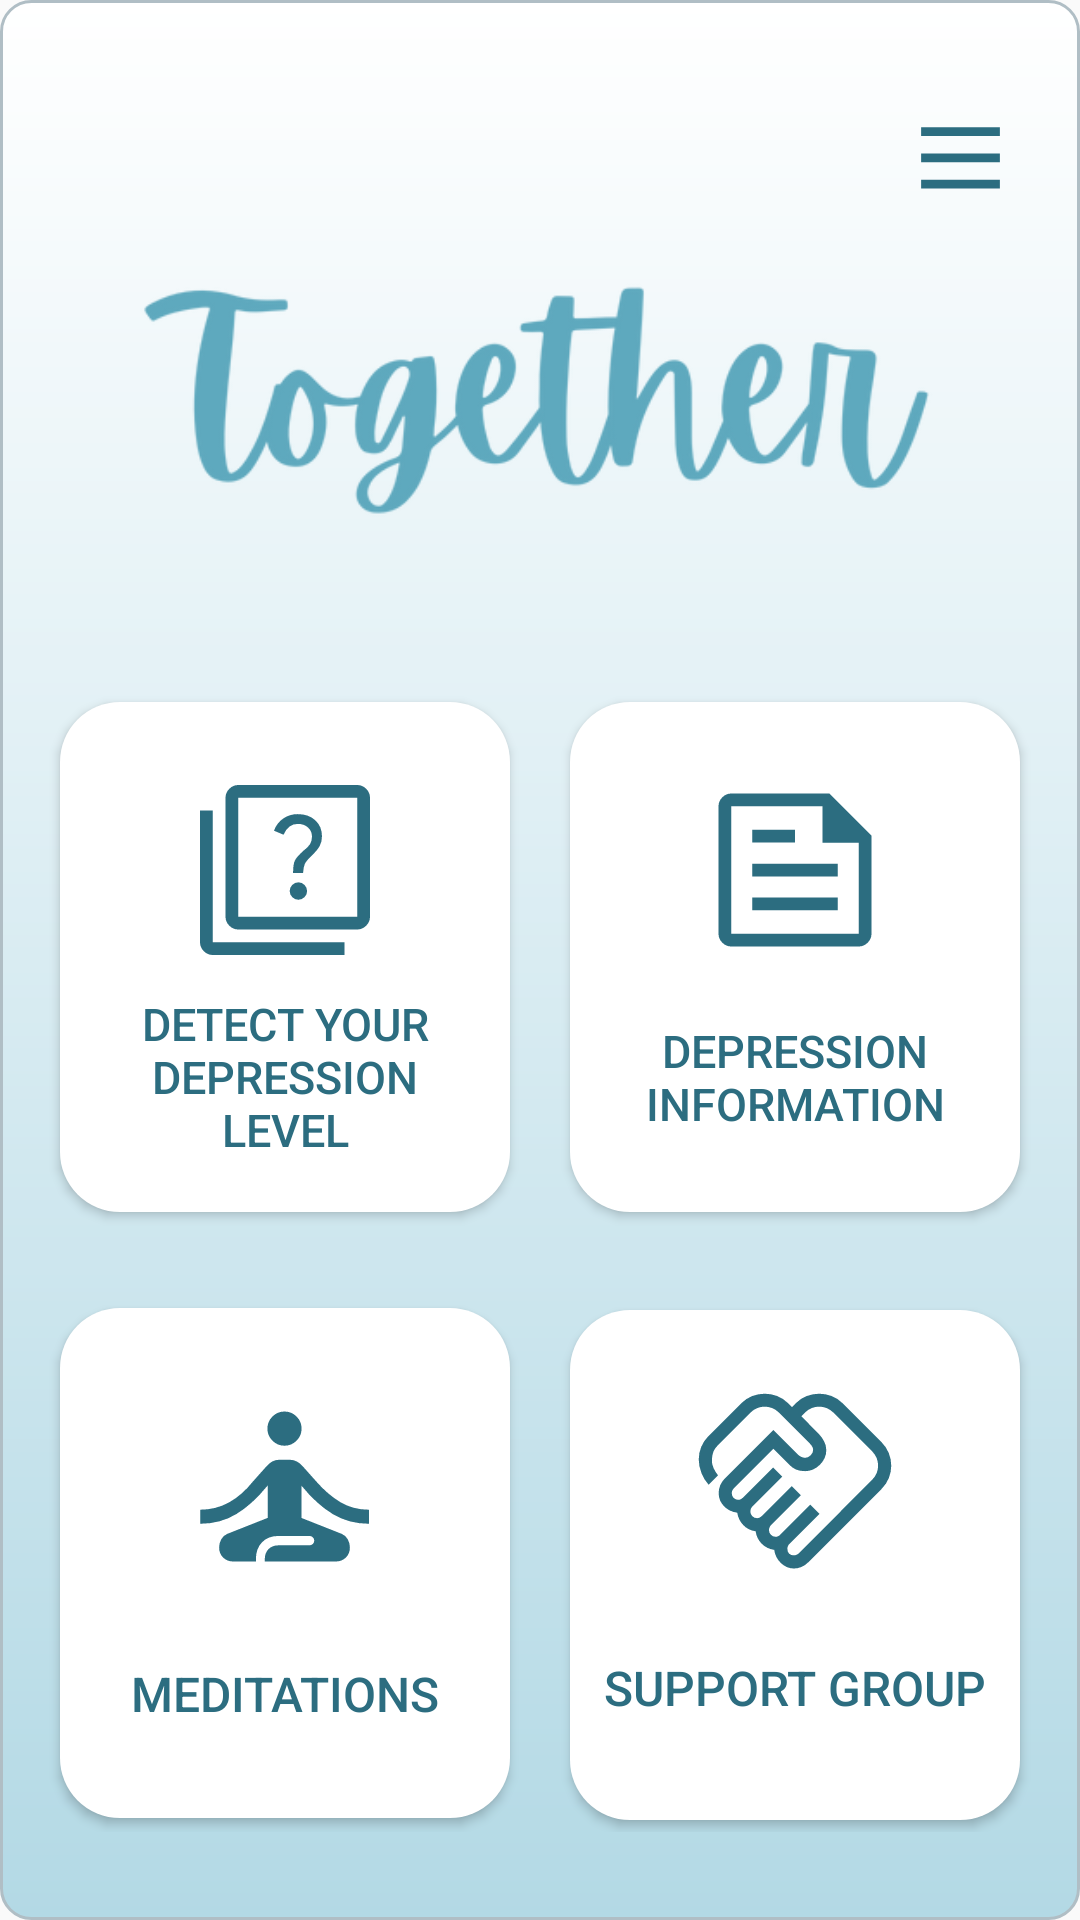

Icons on this 1080*1920 Android screen, each with its box as (x1, y1, x2, y2):
hamburger: (921, 127, 1000, 189)
